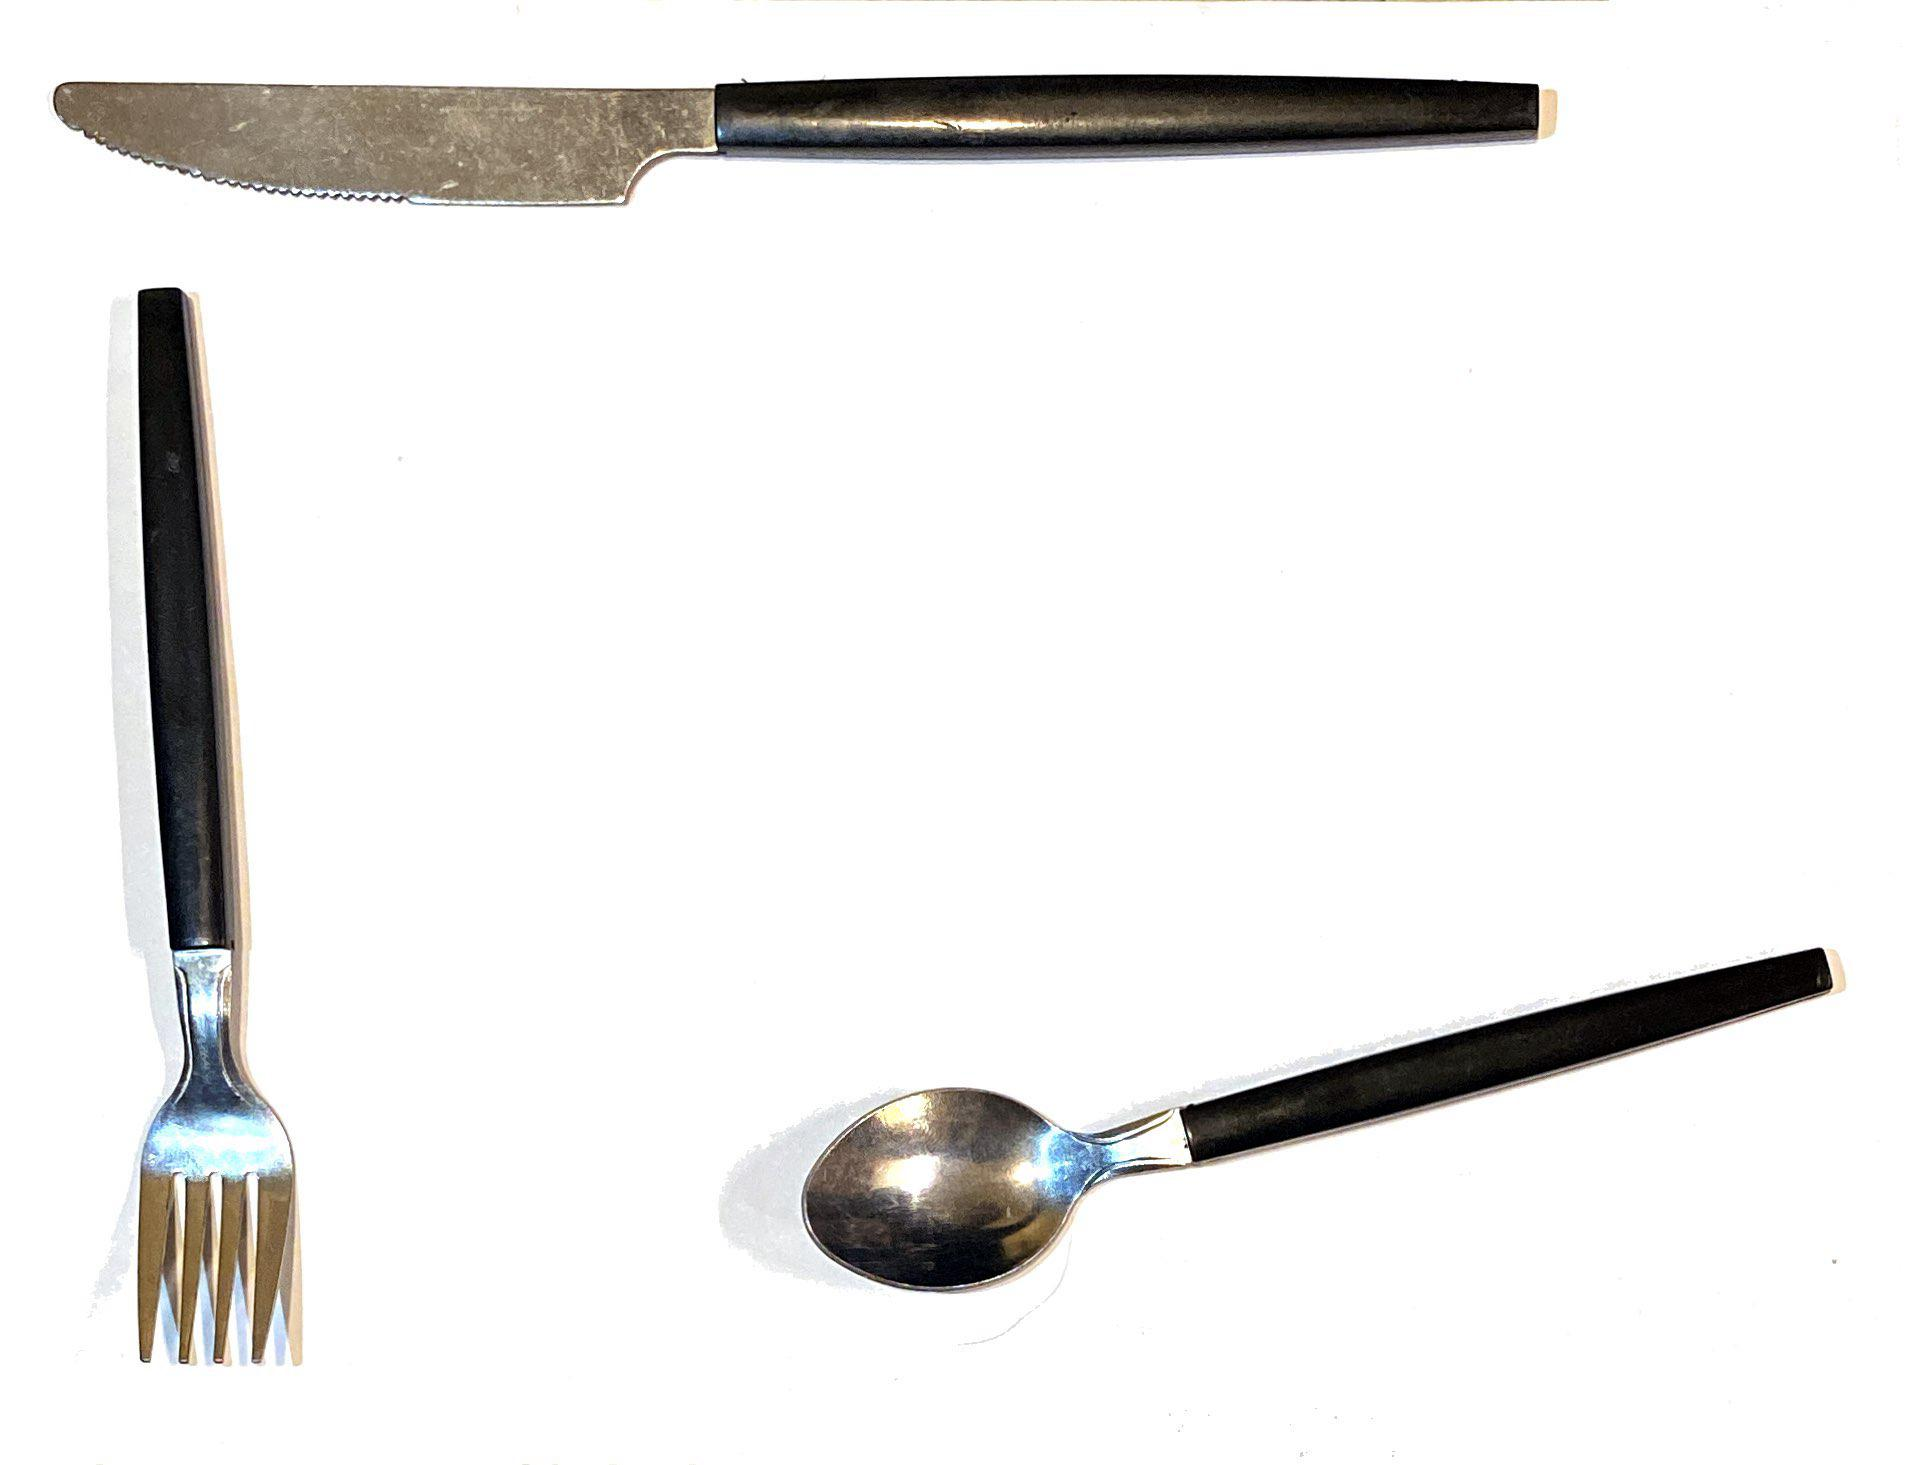Fork: (111, 259, 371, 1416)
Knife: (43, 48, 1683, 265)
Spoon: (755, 903, 1852, 1343)
